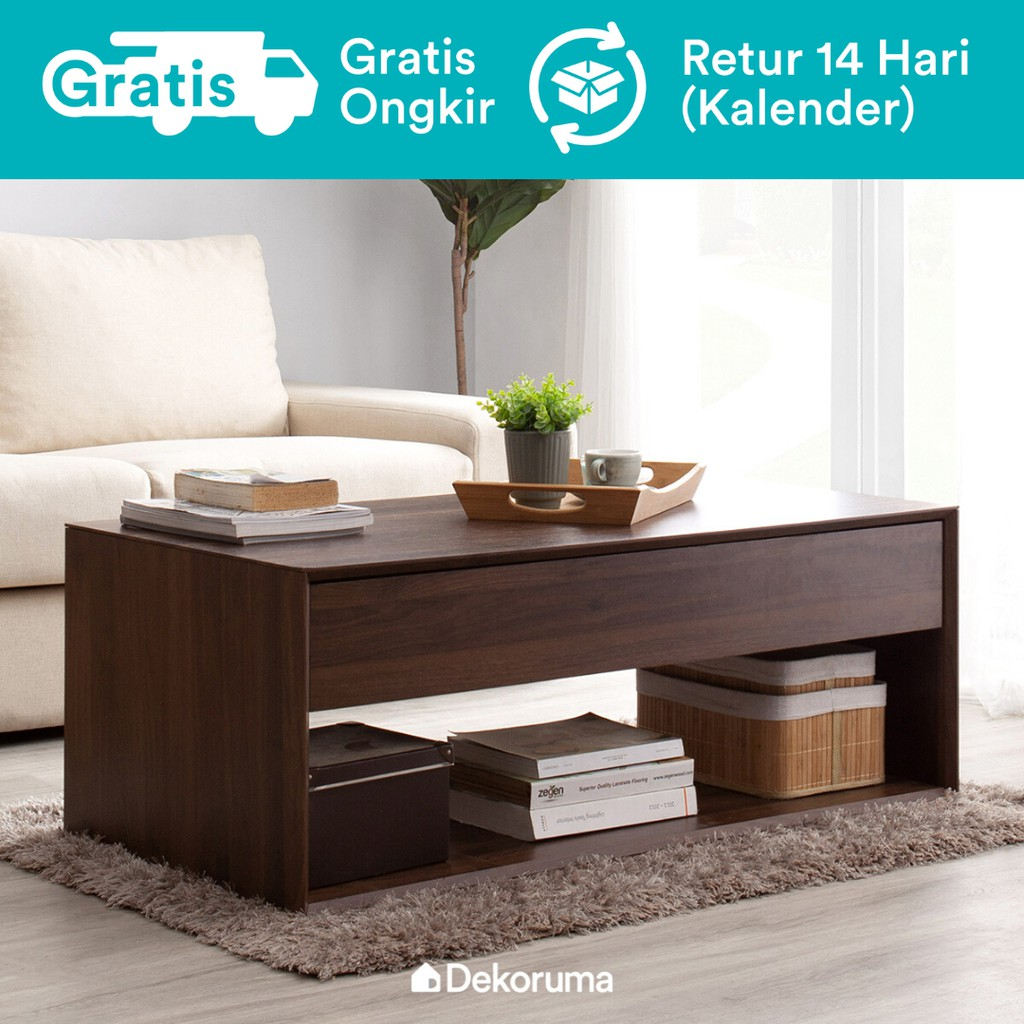buku: (440, 713, 705, 828), (123, 472, 369, 549)
gelas: (588, 449, 653, 484)
meja: (59, 474, 974, 903)
sova: (3, 222, 499, 490)
tanaman: (483, 381, 587, 479)
